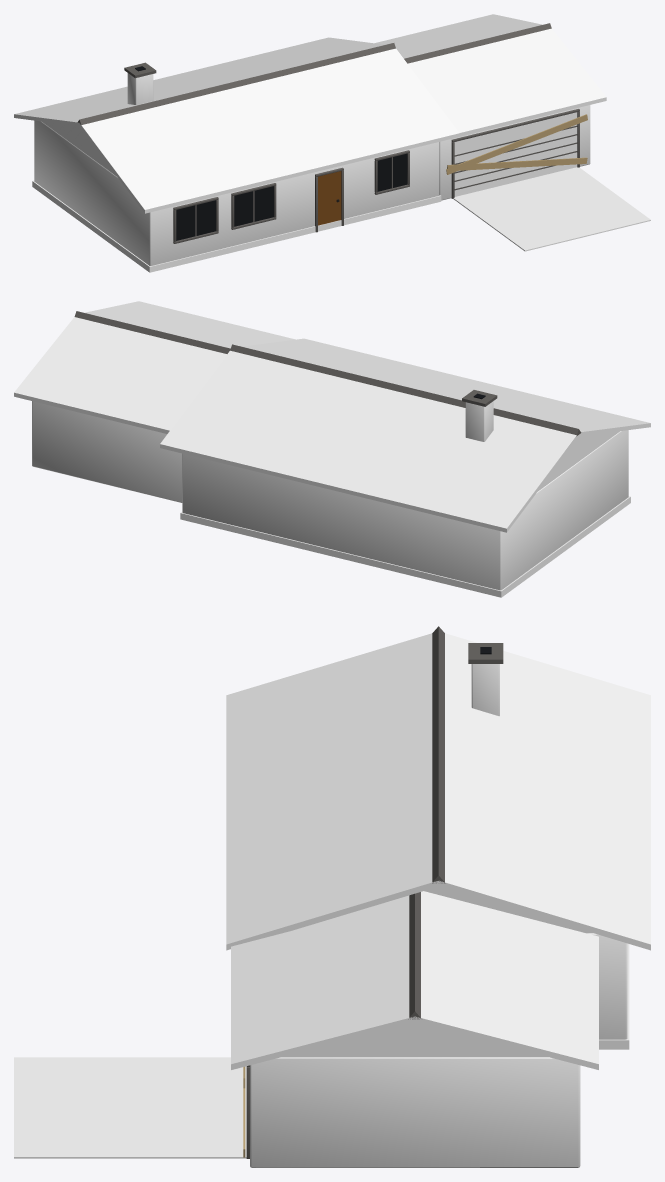
The model's file is bld_ranch_garage.glb.
3 renders of one model, top to bottom at view 1: azimuth 30°, elevation 25°; view 2: azimuth 150°, elevation 25°; view 3: azimuth 270°, elevation 25°, orthographic. The views are drawn at different scales.
Parts seen in each view (by area): view 1: rg_roof_front, rg_walls, rg_groof_front, rg_drive, rg_roof_back, rg_gdoor, rg_groof_back, rg_footing, rg_roof_cap, rg_garage, rg_win0, rg_win1 (+8 smaller); view 2: rg_roof_back, rg_walls, rg_groof_back, rg_garage, rg_roof_front, rg_groof_front, rg_footing, rg_roof_cap, rg_roof_gable, rg_groof_cap, rg_chim; view 3: rg_roof_front, rg_roof_back, rg_garage, rg_groof_back, rg_drive, rg_groof_front, rg_groof_gable, rg_roof_cap, rg_walls, rg_groof_cap, rg_chim, rg_roof_gable.
Part boxes in pixels (x1,y1,x2,y2): rg_roof_front: (79,48,459,213); rg_walls: (34,120,439,265); rg_groof_front: (408,28,606,136); rg_drive: (453,167,650,251); rg_roof_back: (14,37,385,126); rg_gdoor: (454,112,577,196); rg_groof_back: (375,14,542,58); rg_footing: (32,180,441,272); rg_roof_cap: (77,43,395,125); rg_garage: (439,105,590,200); rg_win0: (176,200,215,240); rg_win1: (234,186,273,226); rg_roof_back: (160,350,578,532); rg_walls: (182,430,628,590); rg_groof_back: (14,317,226,433); rg_garage: (32,401,182,502); rg_roof_front: (242,338,650,436); rg_groof_front: (84,301,295,348); rg_footing: (180,496,630,597); rg_roof_cap: (230,344,581,436); rg_roof_gable: (537,431,619,491); rg_groof_cap: (74,311,230,353); rg_chim: (465,401,493,441); rg_roof_front: (226,633,438,950); rg_roof_back: (438,633,650,950); rg_garage: (250,1057,580,1167); rg_groof_back: (415,891,598,1069); rg_drive: (14,1057,246,1158); rg_groof_front: (231,895,414,1069); rg_groof_gable: (281,1022,548,1057); rg_roof_cap: (432,626,445,883); rg_walls: (588,933,627,1039); rg_groof_cap: (408,892,420,1019); rg_chim: (471,664,499,716); rg_roof_gable: (424,886,592,933).
Bounding box in the file's own units: 18.4 × 5.13 × 13.5.
